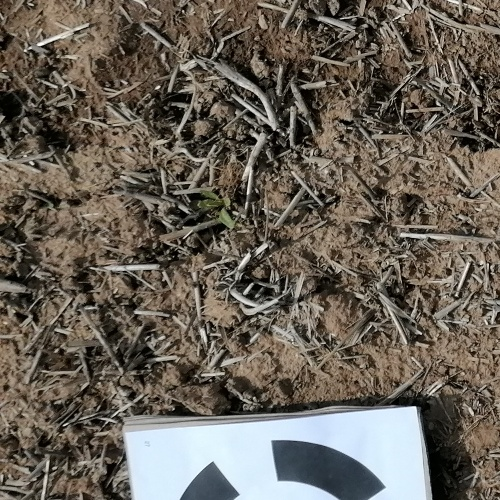beet: (196, 184, 239, 234)
